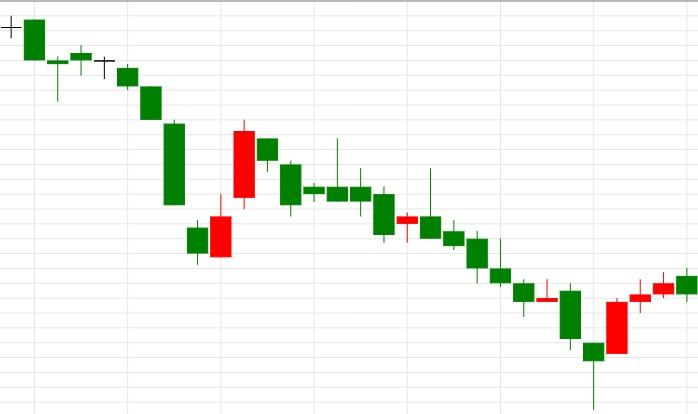hammer_rise: (421, 168, 604, 409)
